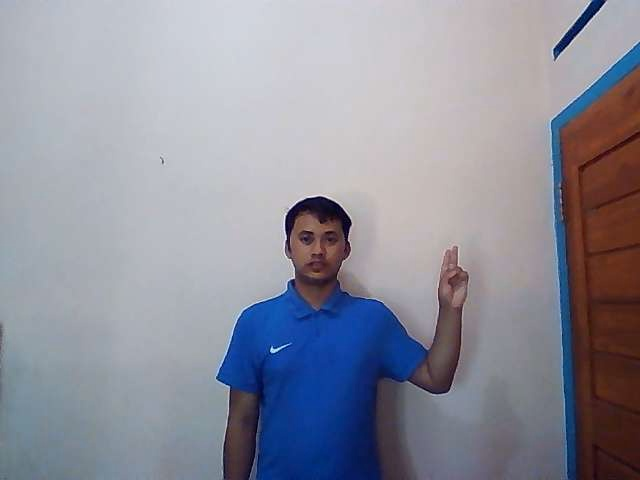U: (434, 244, 472, 307)
